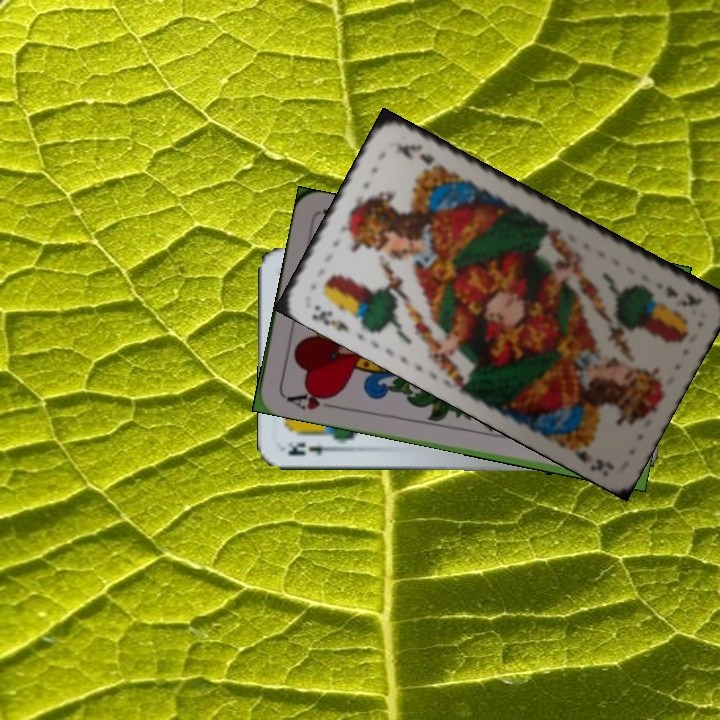EK: (308, 300, 352, 334), (661, 282, 705, 310), (283, 438, 341, 458)
HA: (280, 385, 339, 413)
